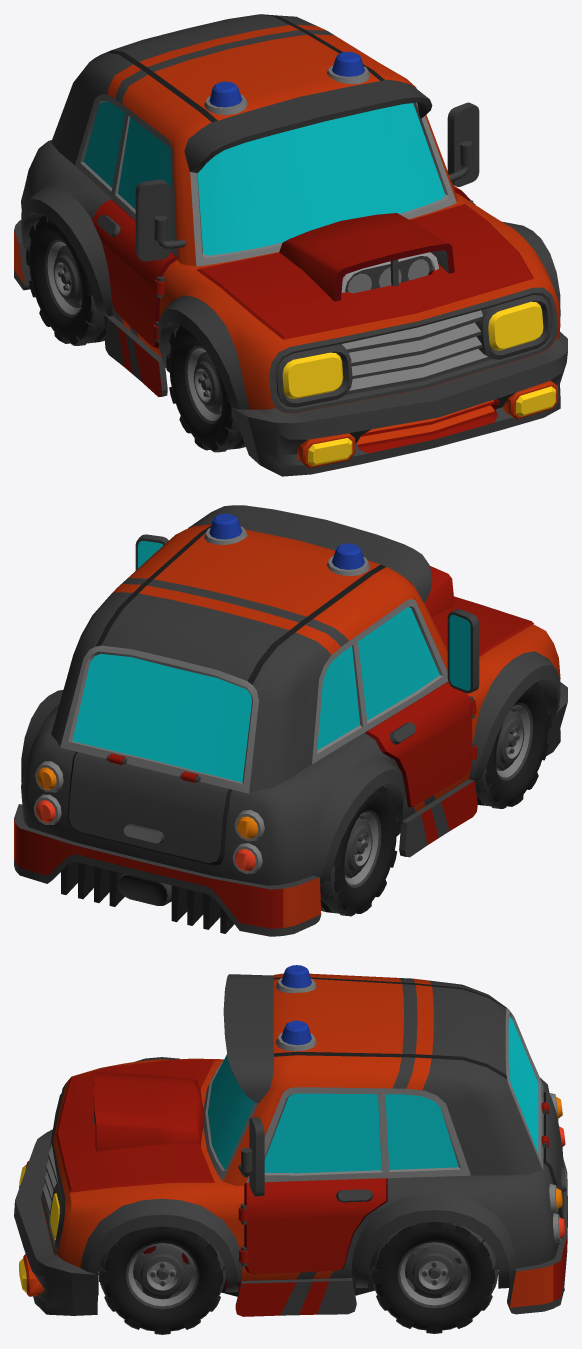
File: VEH7-B.fbx
3 renders of one model, top to bottom at view 1: azimuth 30°, elevation 25°; view 2: azimuth 150°, elevation 25°; view 3: azimuth 270°, elevation 25°, orthographic. The views are drawn at different scales.
Parts seen in each view (by area): view 1: VEH7_B, V7B_Wheel_BR, V7B_Wheel_FR; view 2: VEH7_B, V7B_Wheel_BR, V7B_Wheel_FR; view 3: VEH7_B, V7B_Wheel_BL, V7B_Wheel_FL.
Part boxes in pixels (bbox=[...]): VEH7_B: bbox=[14, 14, 567, 476]; V7B_Wheel_BR: bbox=[26, 215, 106, 345]; V7B_Wheel_FR: bbox=[166, 325, 245, 452]; VEH7_B: bbox=[14, 505, 567, 936]; V7B_Wheel_BR: bbox=[320, 785, 399, 916]; V7B_Wheel_FR: bbox=[475, 681, 551, 808]; VEH7_B: bbox=[14, 965, 567, 1316]; V7B_Wheel_BL: bbox=[370, 1222, 498, 1333]; V7B_Wheel_FL: bbox=[98, 1226, 226, 1334].
Bounding box in the file's own units: 248 × 197 × 366.
1 material, 1 textured.
